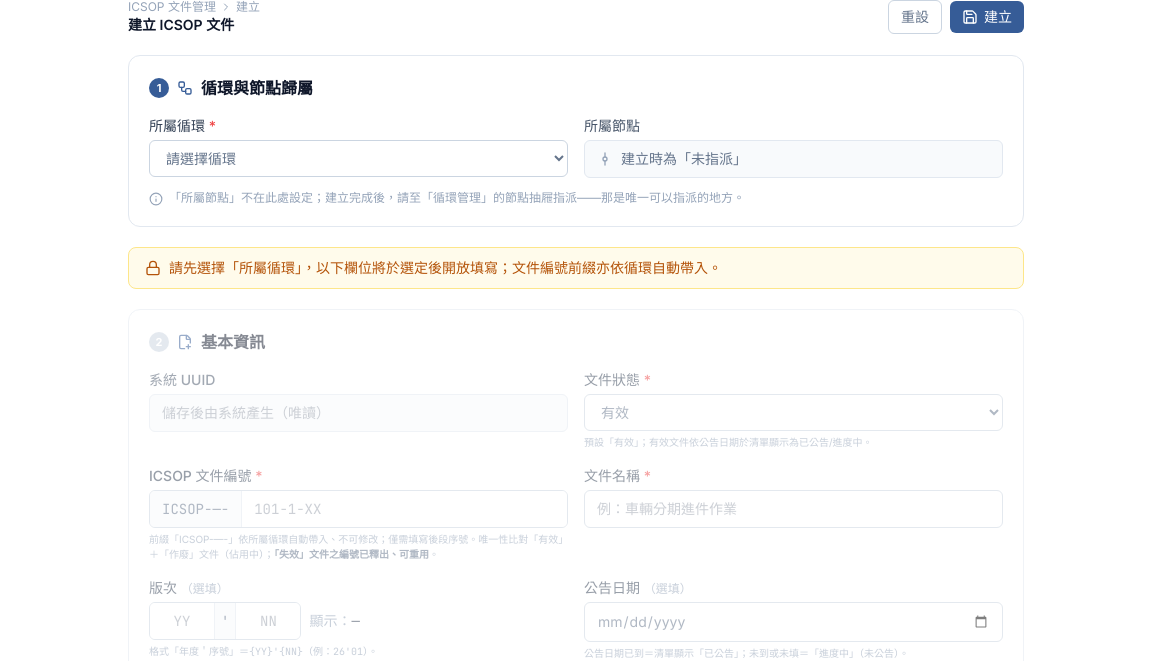
Test: DocumentCreatePage — 使用表單之編號顯示與搜尋（2026-08-26 UX ②） › 選取後之 chip 亦帶編號（與下拉同一組字，不會上下兩處各顯示一種）
Select "銷售及收款循環" in the dropdown named "所屬循環" at (358,158), box left=149, top=140, right=568, bottom=177
(page scrolled)
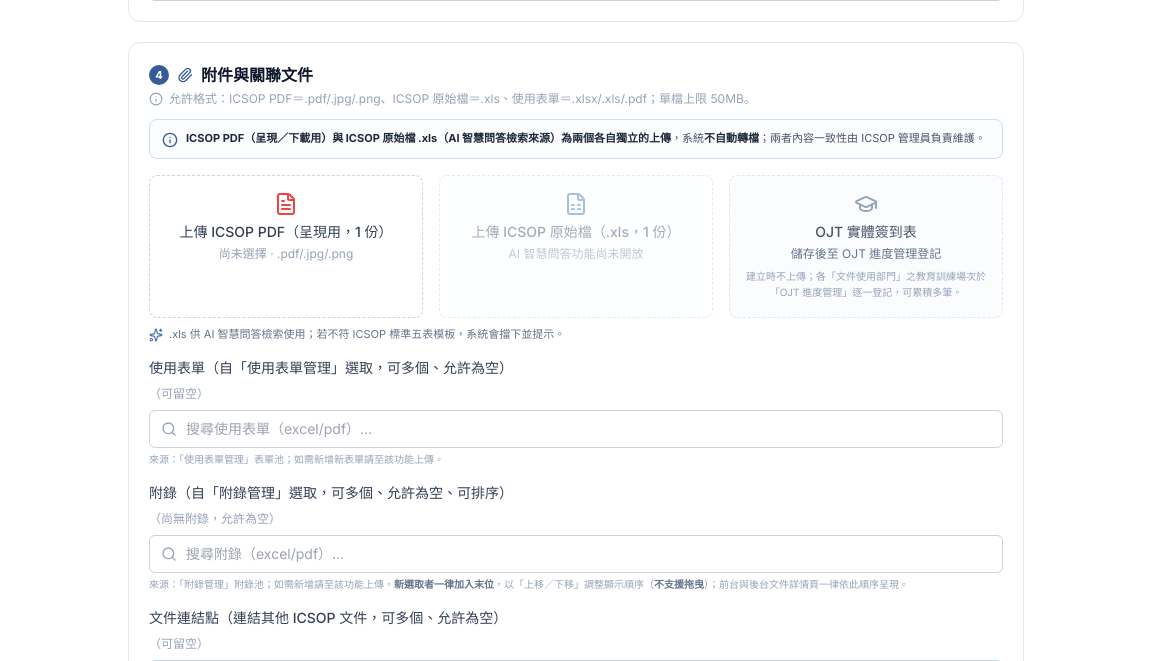
Click the dropdown labelled "使用表單（自「使用表單管理」選取，可多個、允許為空）".
click(576, 429)  # box left=149, top=410, right=1003, bottom=448
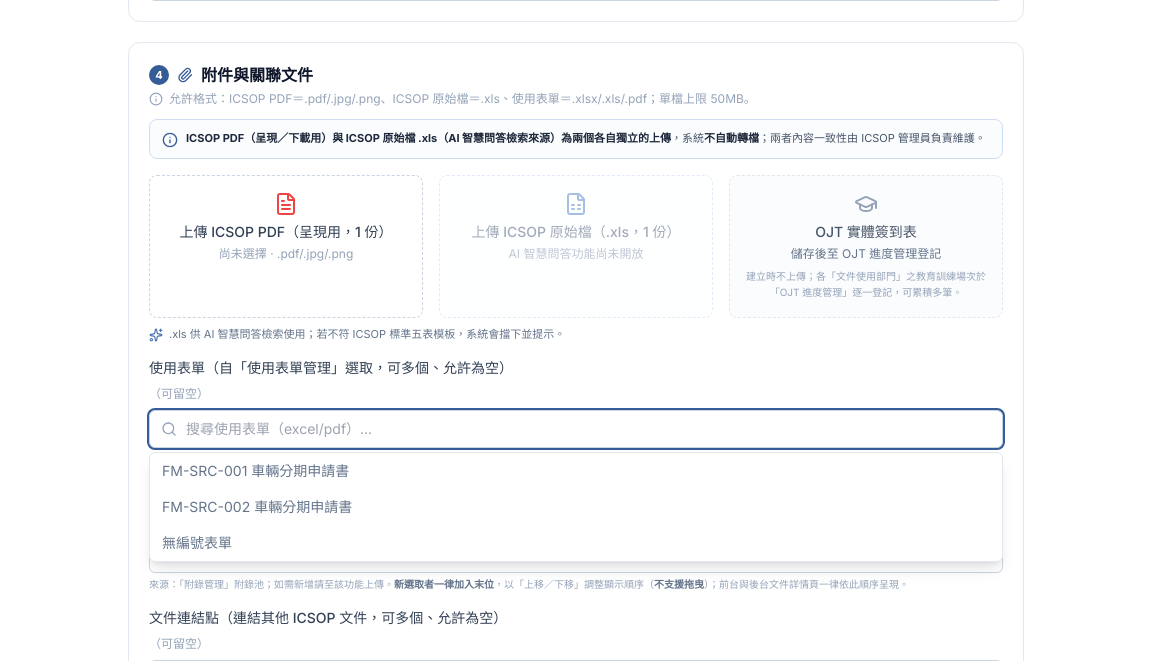
Click the option "FM-SRC-001 車輛分期申請書".
click(256, 470)  # box left=150, top=453, right=1002, bottom=489
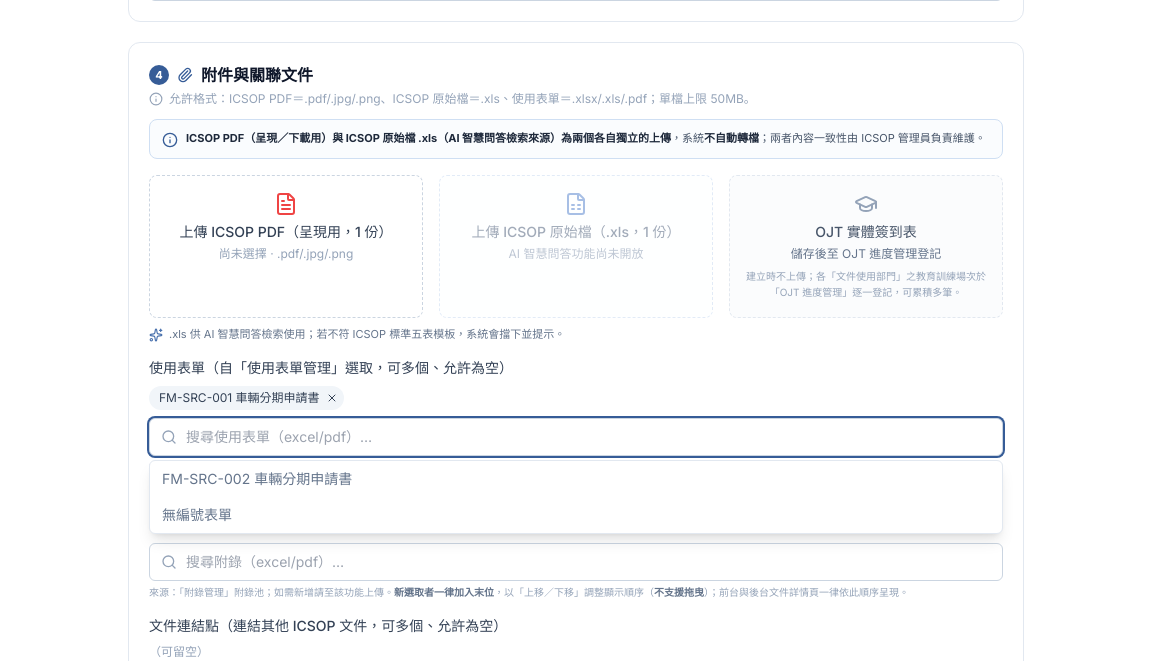
expect the element with test id "dForms-chips" reads "FM-SRC-001 車輛分期申請書": met, box left=159, top=390, right=320, bottom=405
